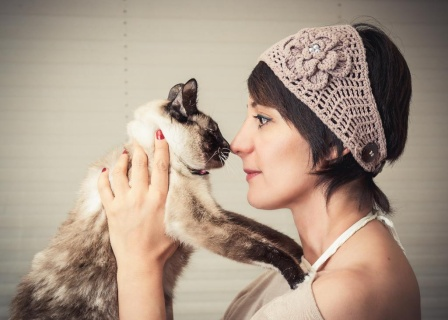Cat: (9, 76, 304, 319)
